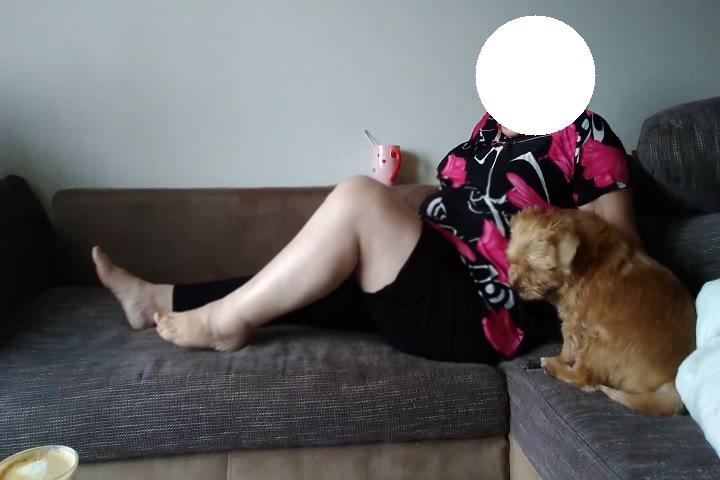lowerbody: (88, 169, 518, 373)
